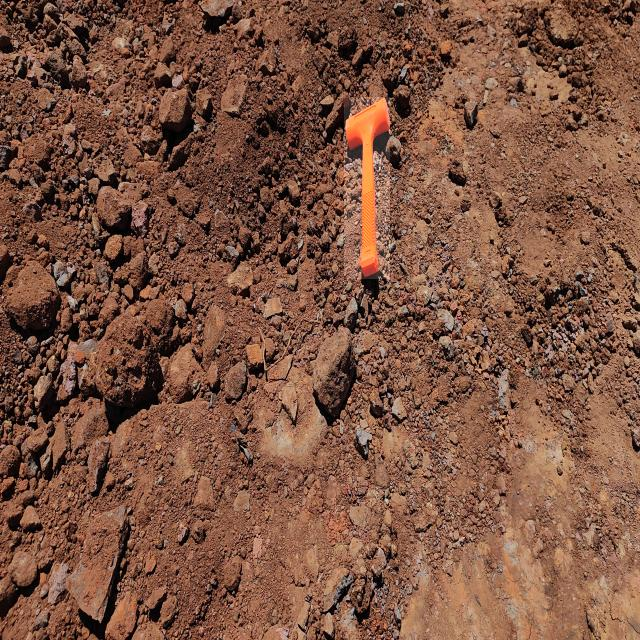Orange_hammer: (344, 98, 390, 280)
